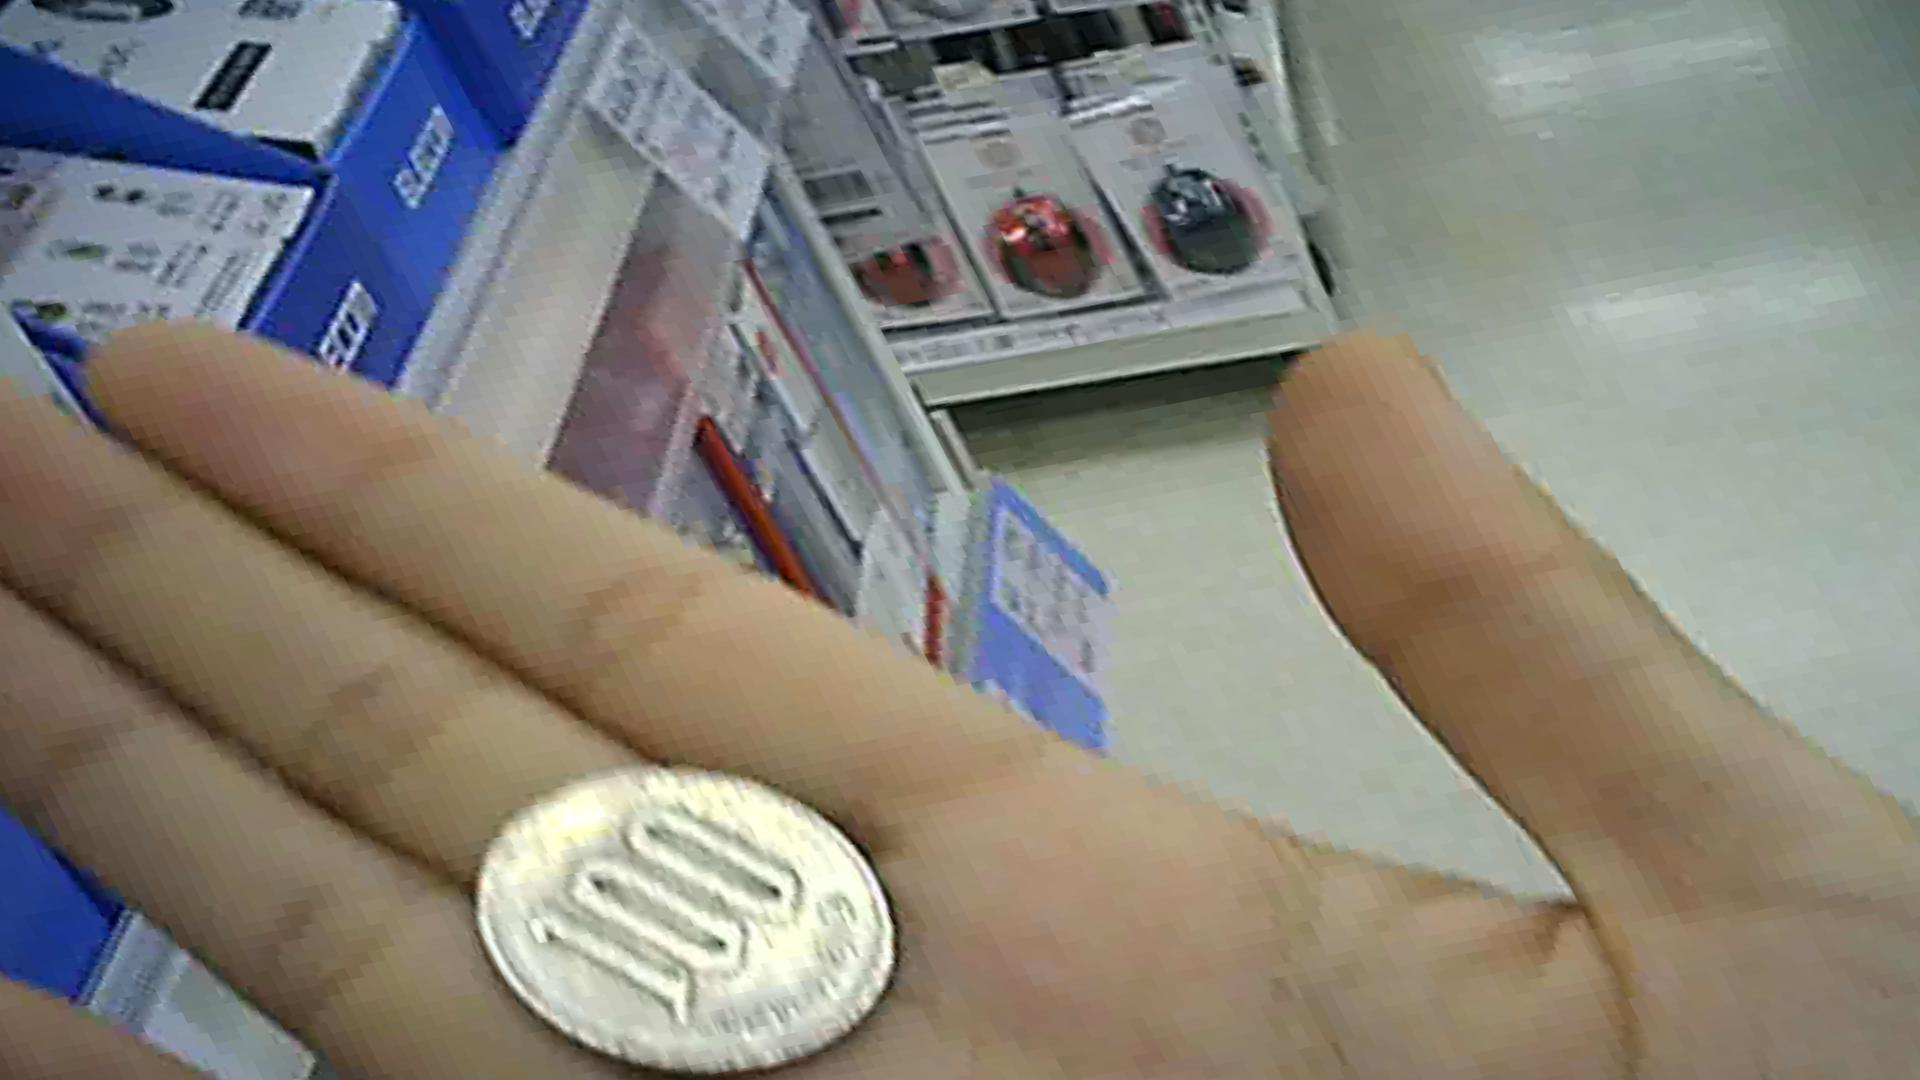100 Yen: (455, 765, 905, 1075)
